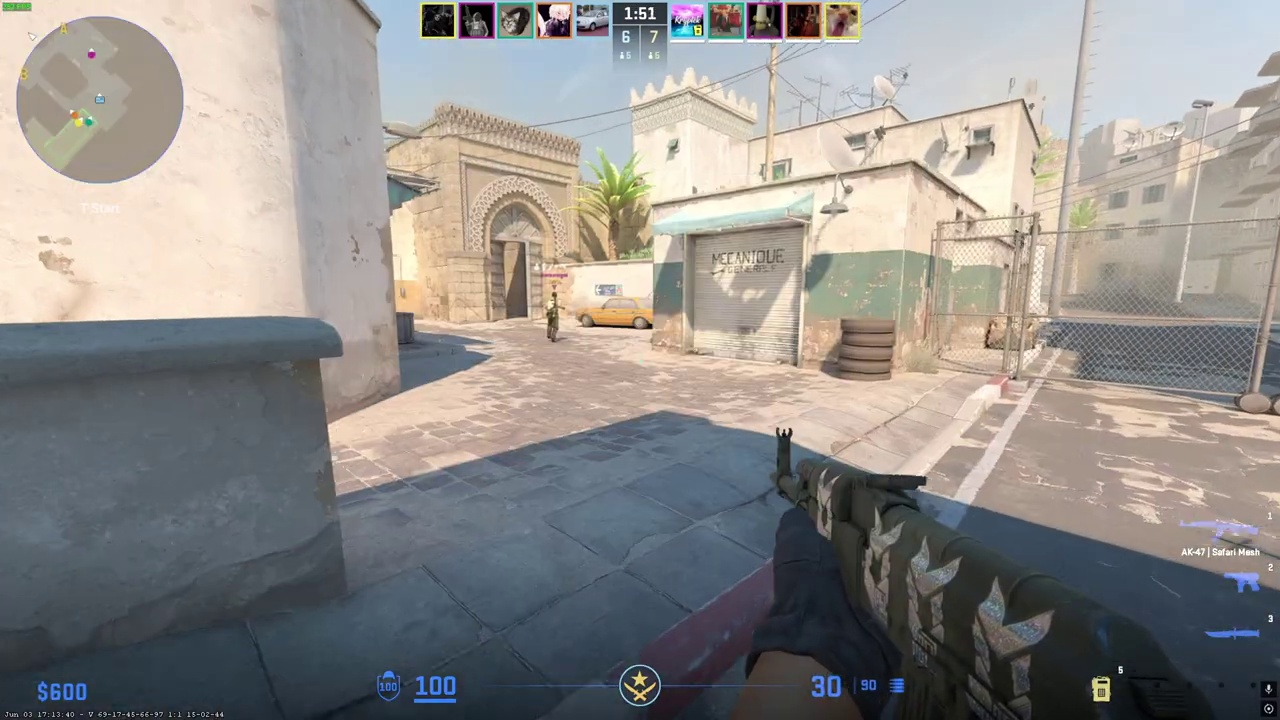Terrorist: (544, 292, 562, 342)
